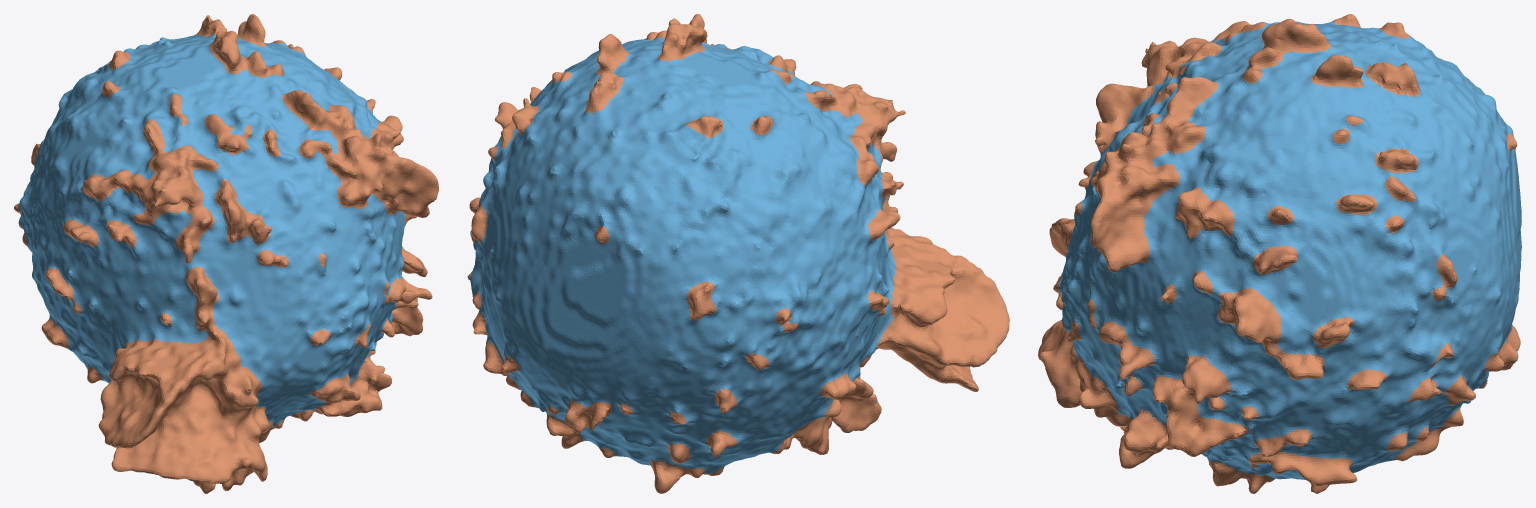
3 renders of one model, left to right at view 1: azimuth 30°, elevation 25°; view 2: azimuth 150°, elevation 25°; view 3: azimuth 270°, elevation 25°, orthographic. The views are drawn at different scales.
Size of the model in its own units: 147 by 150 by 140.
